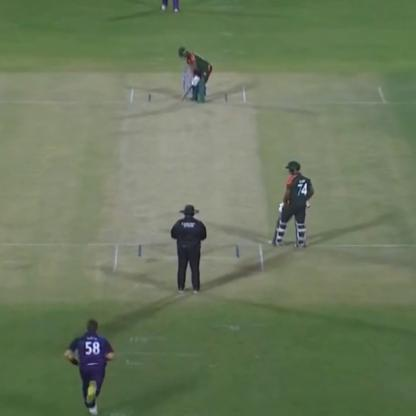bat: (177, 68, 199, 108)
pitch: (109, 84, 273, 284)
